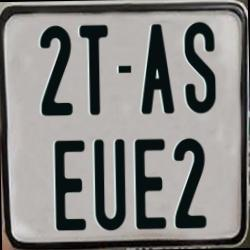2: (38, 24, 74, 117), (172, 136, 208, 227)
A: (138, 23, 176, 116)
E: (53, 140, 88, 233), (133, 136, 167, 229)
S: (184, 20, 218, 114)
T: (79, 24, 110, 116)
U: (93, 138, 128, 229)
